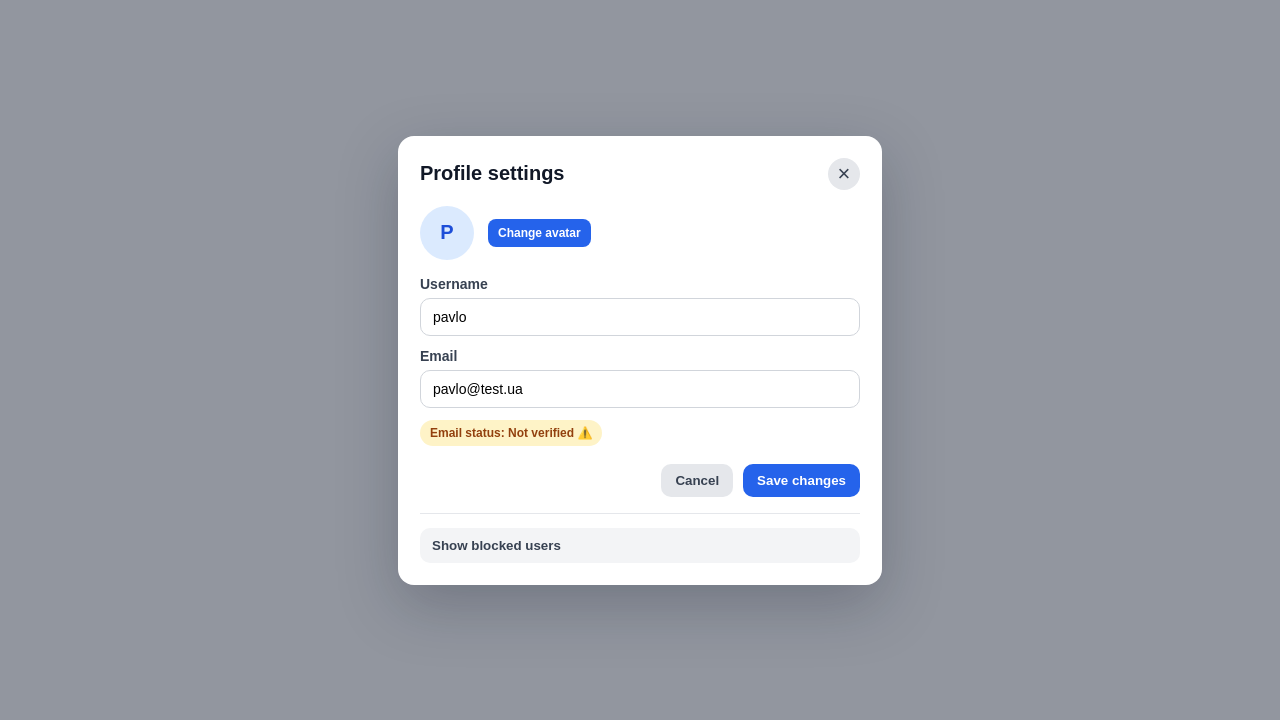
Test: ProfileSettingsModal › shows blocked users error
Click the button "Show blocked users" at (496, 545), box [420,528,860,562]
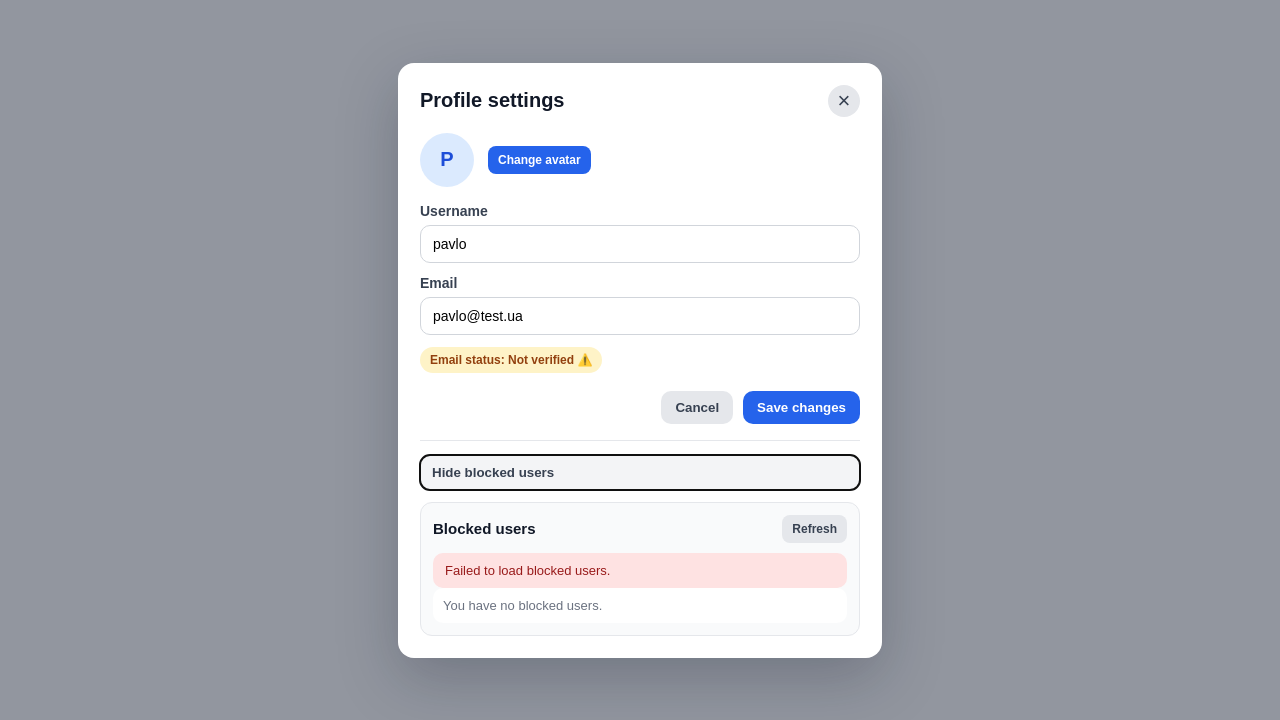
Now the text "Failed to load blocked users." is shown, box [433,552,847,588]
